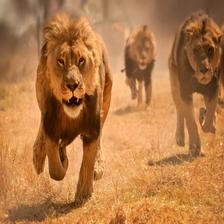lions: (23, 5, 117, 204), (171, 13, 224, 194), (121, 13, 170, 120)
